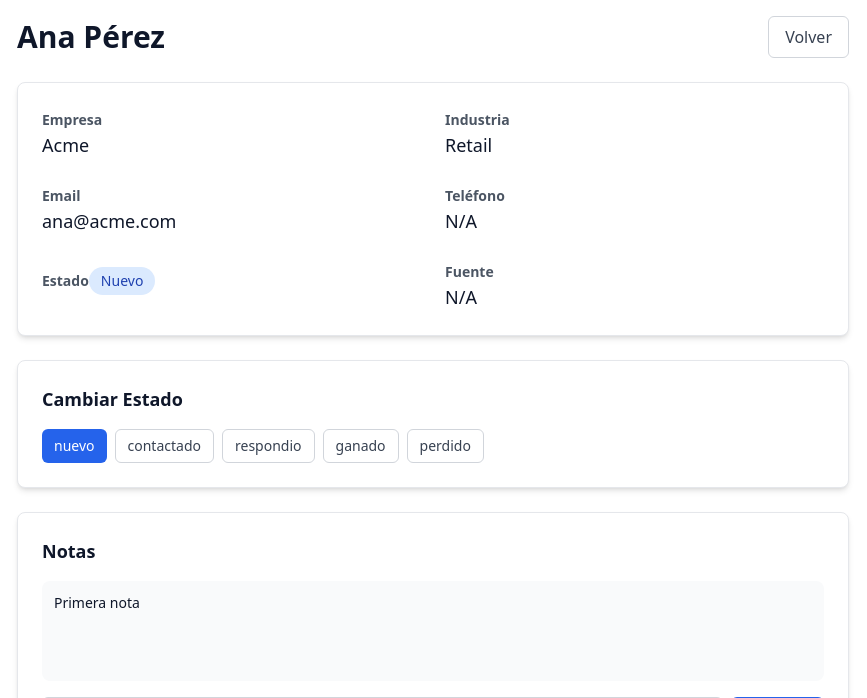
Scenario: LeadDetailPage › shows an inline error and keeps the lead visible when an update fails (regression)
Expected: the heading "Ana Pérez" is shown, top-left (17, 19), bottom-right (165, 55)
Click the button "perdido" at (445, 446), box top-left (407, 429), bottom-right (484, 463)
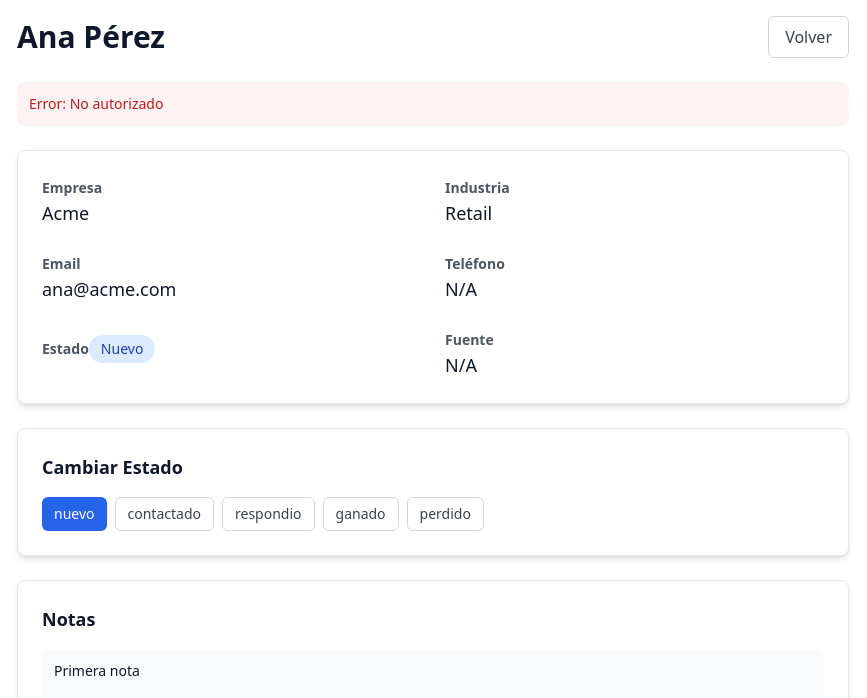
Expected: the heading "Ana Pérez" is shown, top-left (17, 19), bottom-right (165, 55)
Now the message reads "Error: No autorizado", box top-left (17, 82), bottom-right (849, 126)
